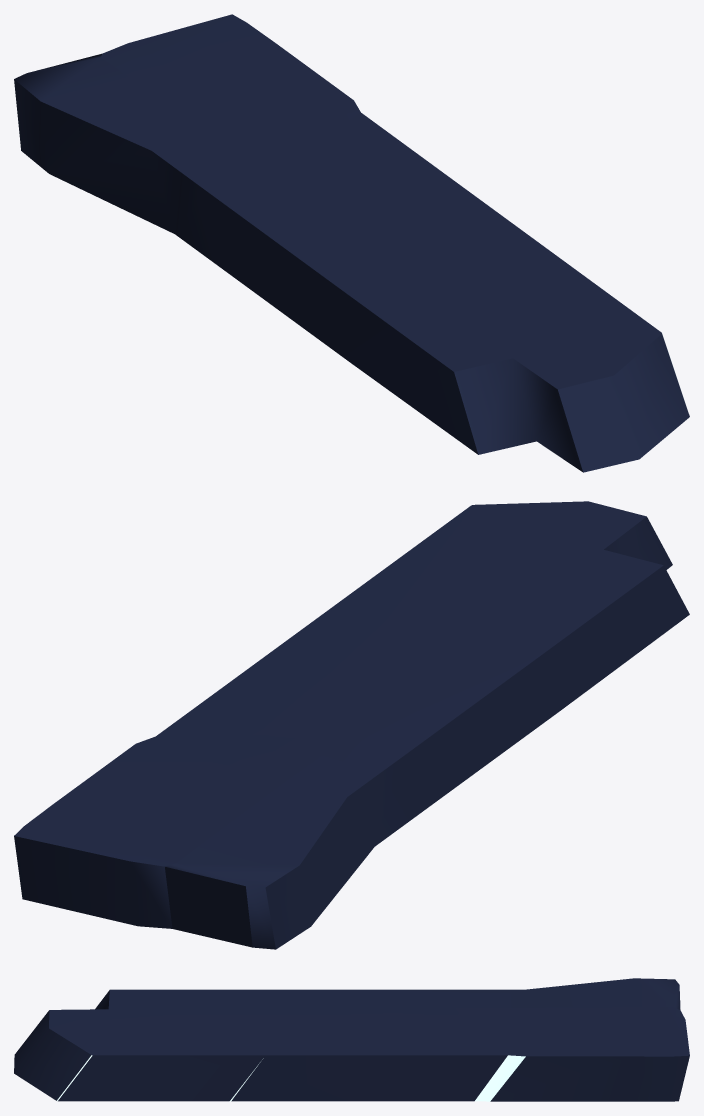
Rendered from City_Col_R.fbx.
3 renders of one model, top to bottom at view 1: azimuth 30°, elevation 25°; view 2: azimuth 150°, elevation 25°; view 3: azimuth 270°, elevation 25°, orthographic. The views are drawn at different scales.
Visible parts, largest first — view 1: City_Col_R; view 2: City_Col_R; view 3: City_Col_R.
Boxes of the visible parts, x1,y1,x2,y2 form: City_Col_R: (14, 14, 689, 472); City_Col_R: (14, 501, 689, 949); City_Col_R: (14, 978, 689, 1101).
Bounding box in the file's own units: 450 × 122 × 1617.
